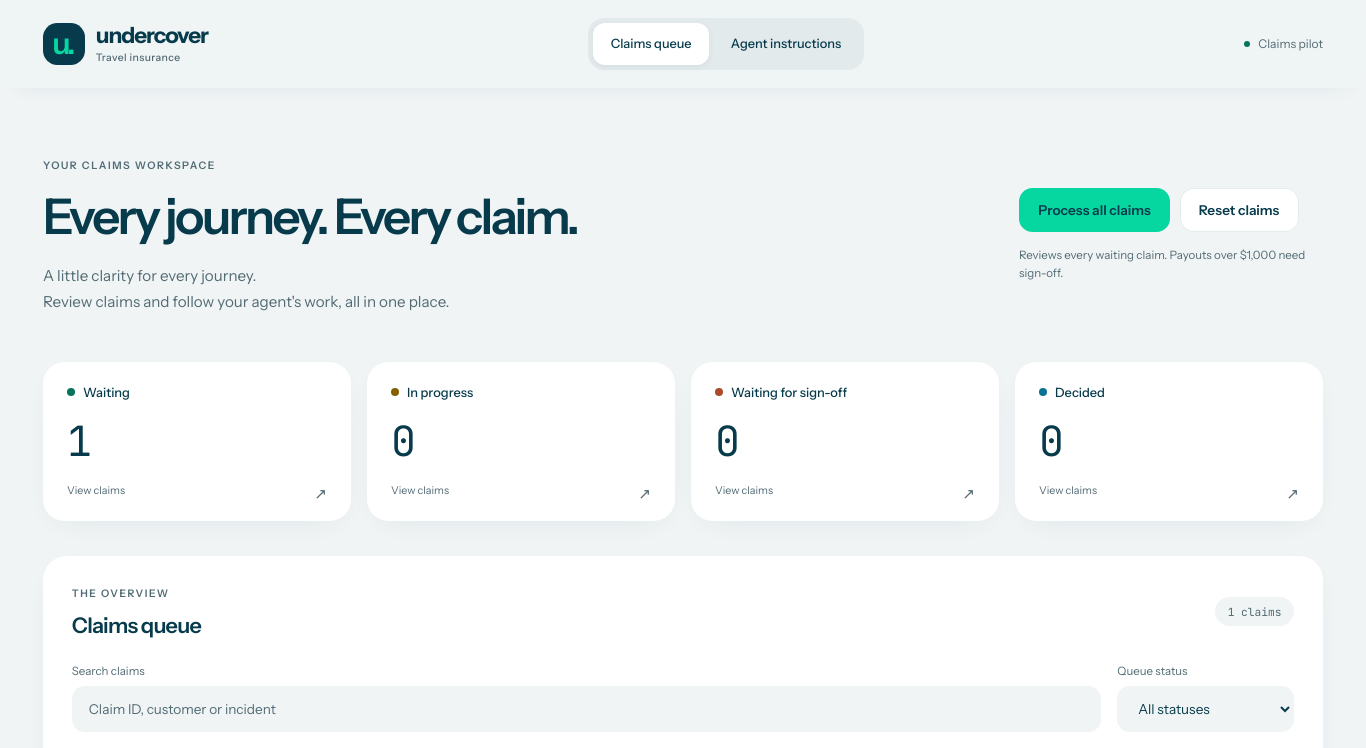
Test: shows reset errors and keeps the confirmation available
Click the button "Reset claims".
click(1239, 210)  # box x1=1180 y1=188 x2=1299 y2=232
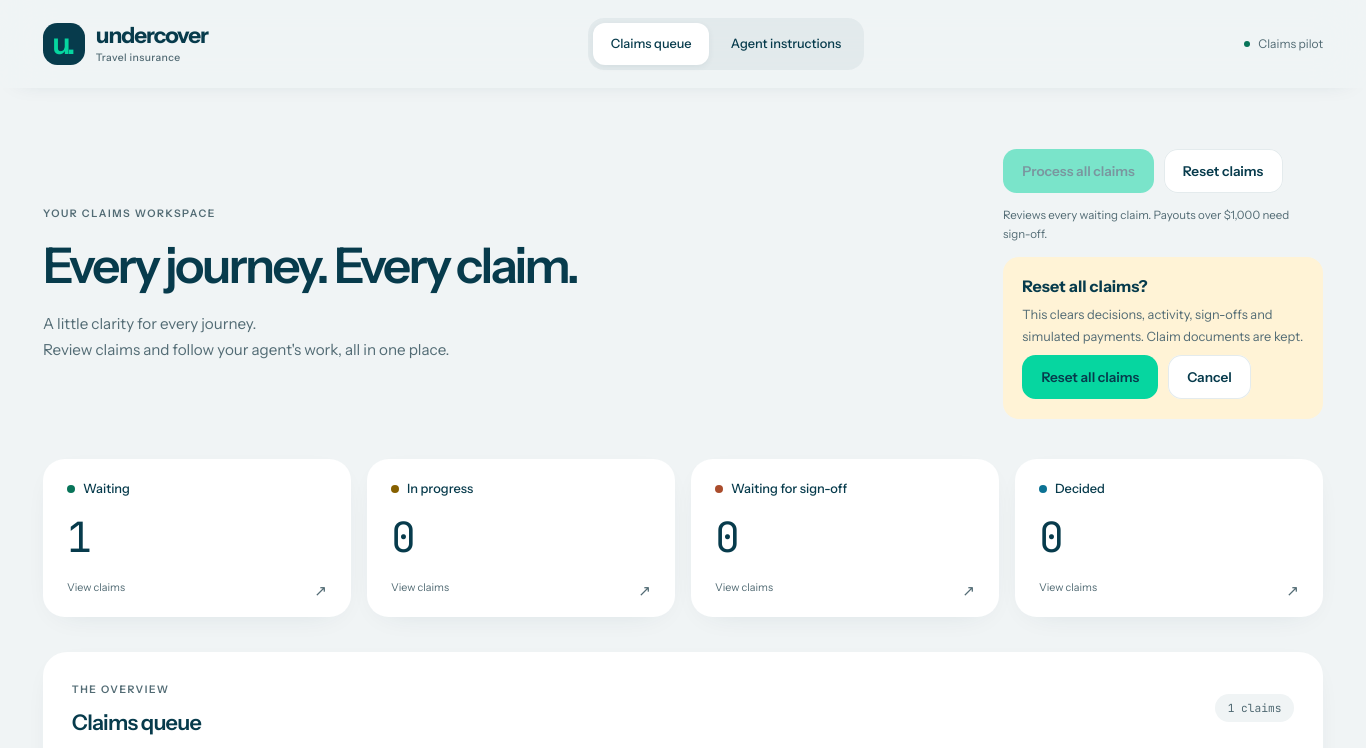
Click the button "Reset all claims".
click(1090, 378)  # box x1=1022 y1=356 x2=1158 y2=400
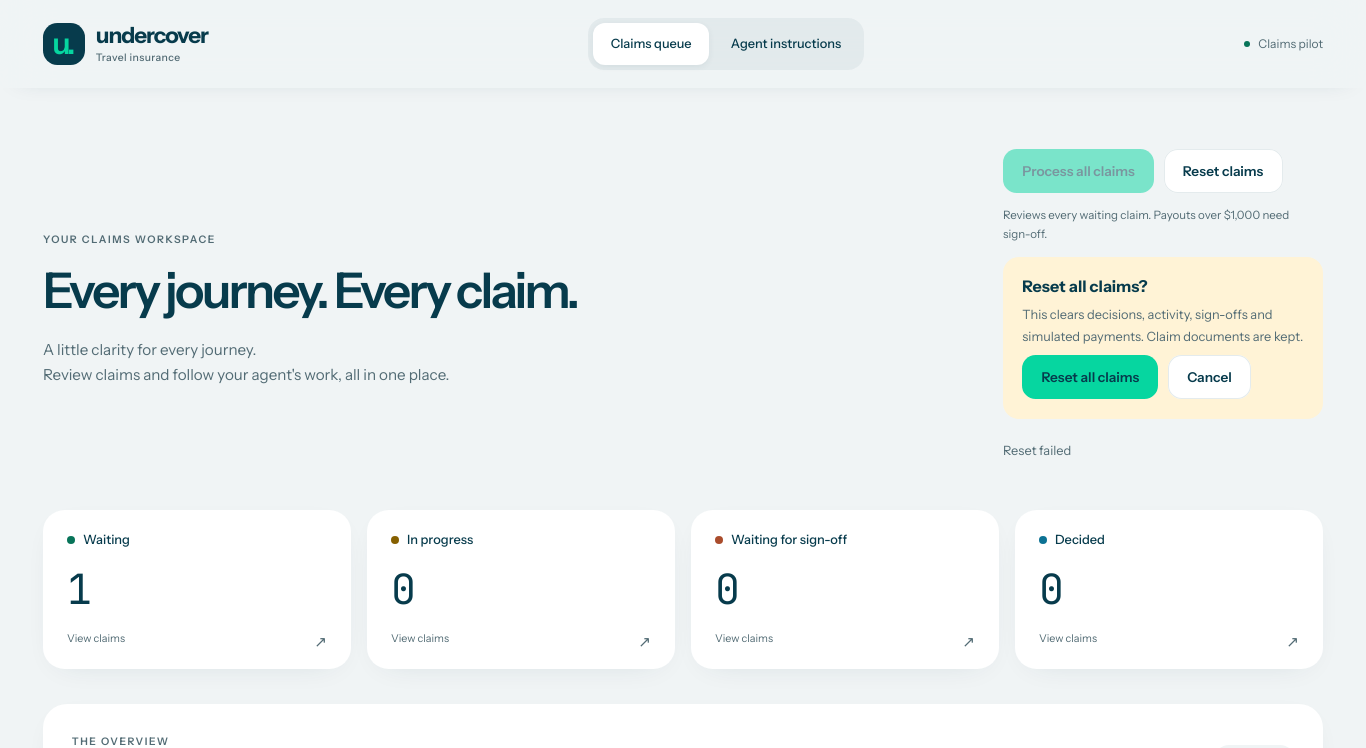
Expected: the button "Reset all claims" is enabled, x1=1022 y1=356 x2=1158 y2=400
Expected: the text "Reset failed" is shown, x1=1003 y1=440 x2=1071 y2=462
